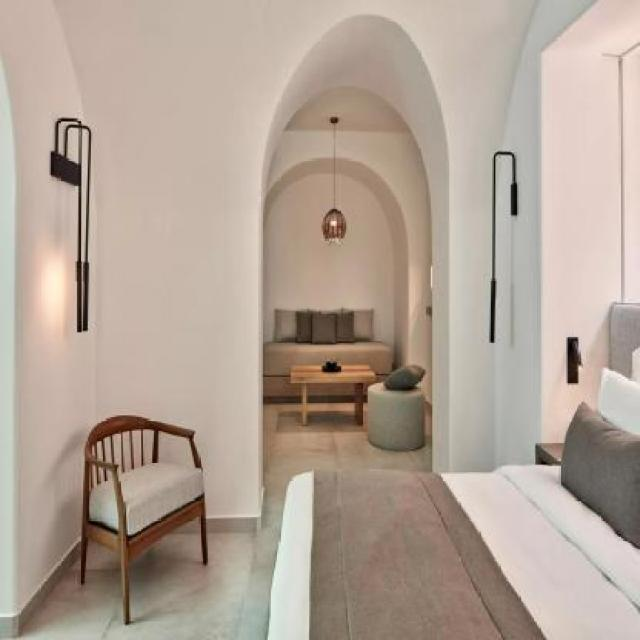Floor: (12, 402, 432, 639)
